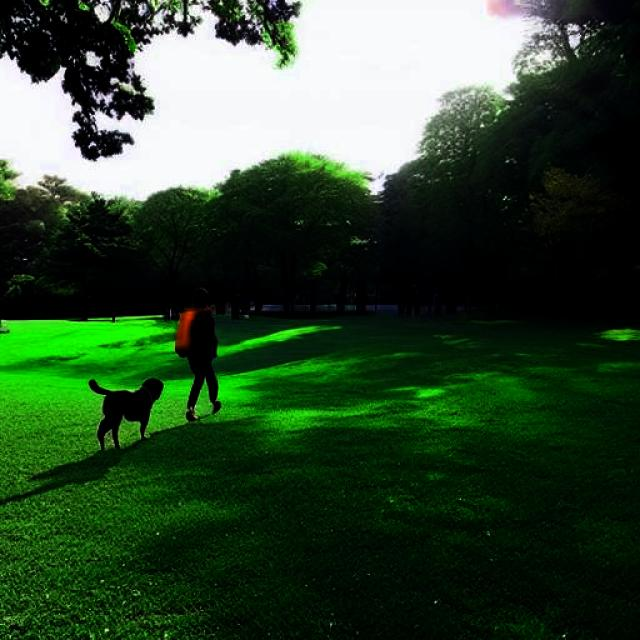Unleashed_Dog: (89, 350, 214, 452)
